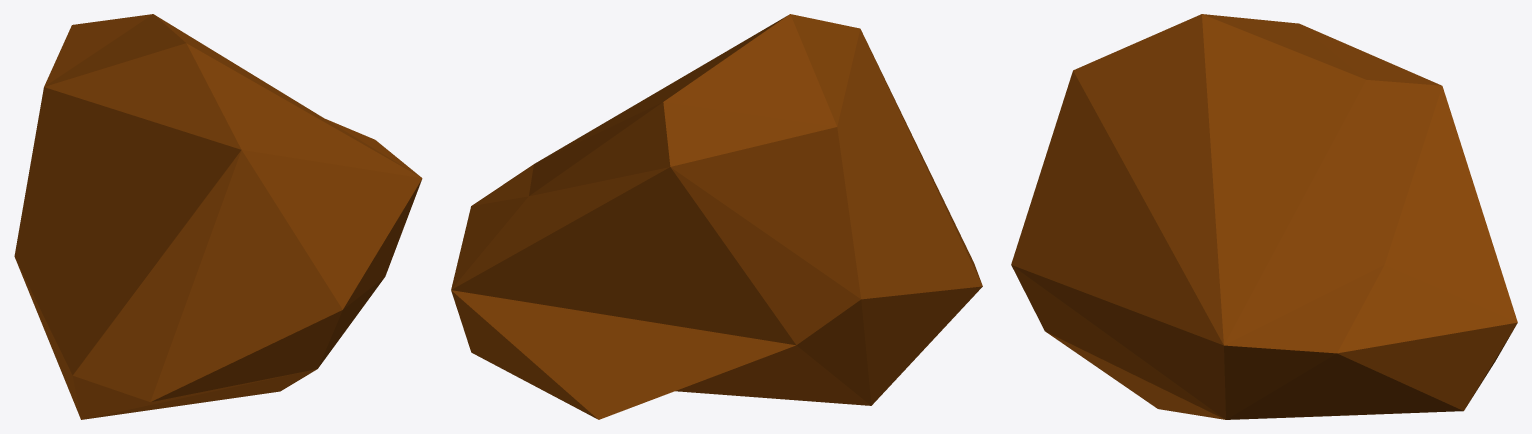
The model's file is roca 1.fbx.
The picture shows the model from 3 angles, left to right: view 1: azimuth 30°, elevation 25°; view 2: azimuth 150°, elevation 25°; view 3: azimuth 270°, elevation 25°; orthographic projection. The views are drawn at different scales.
Parts seen in each view (by area): view 1: ROCA 1; view 2: ROCA 1; view 3: ROCA 1.
Part boxes in pixels (<box>): ROCA 1: <box>14,14,422,419</box>; ROCA 1: <box>451,14,982,419</box>; ROCA 1: <box>1011,14,1517,419</box>.
Bounding box in the file's own units: 268 × 227 × 281.
